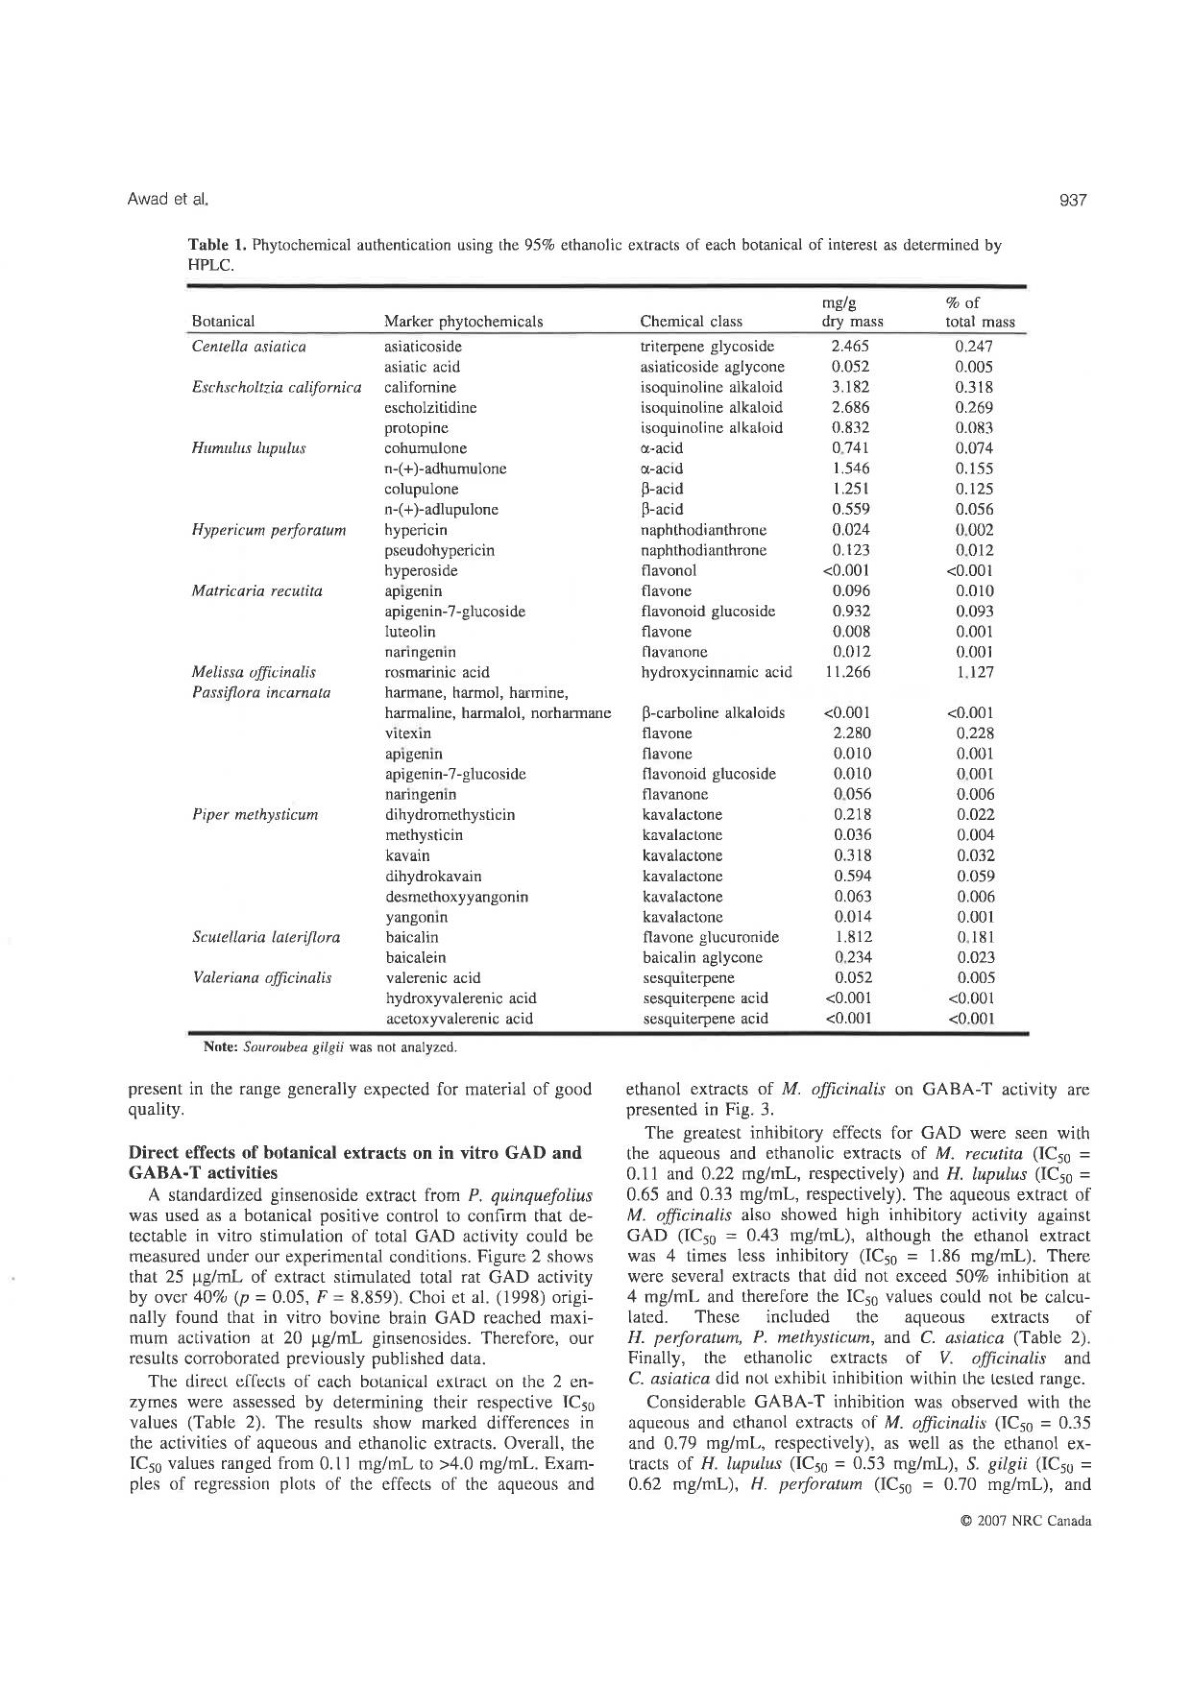partial_lined: (186, 282, 1027, 1036)
